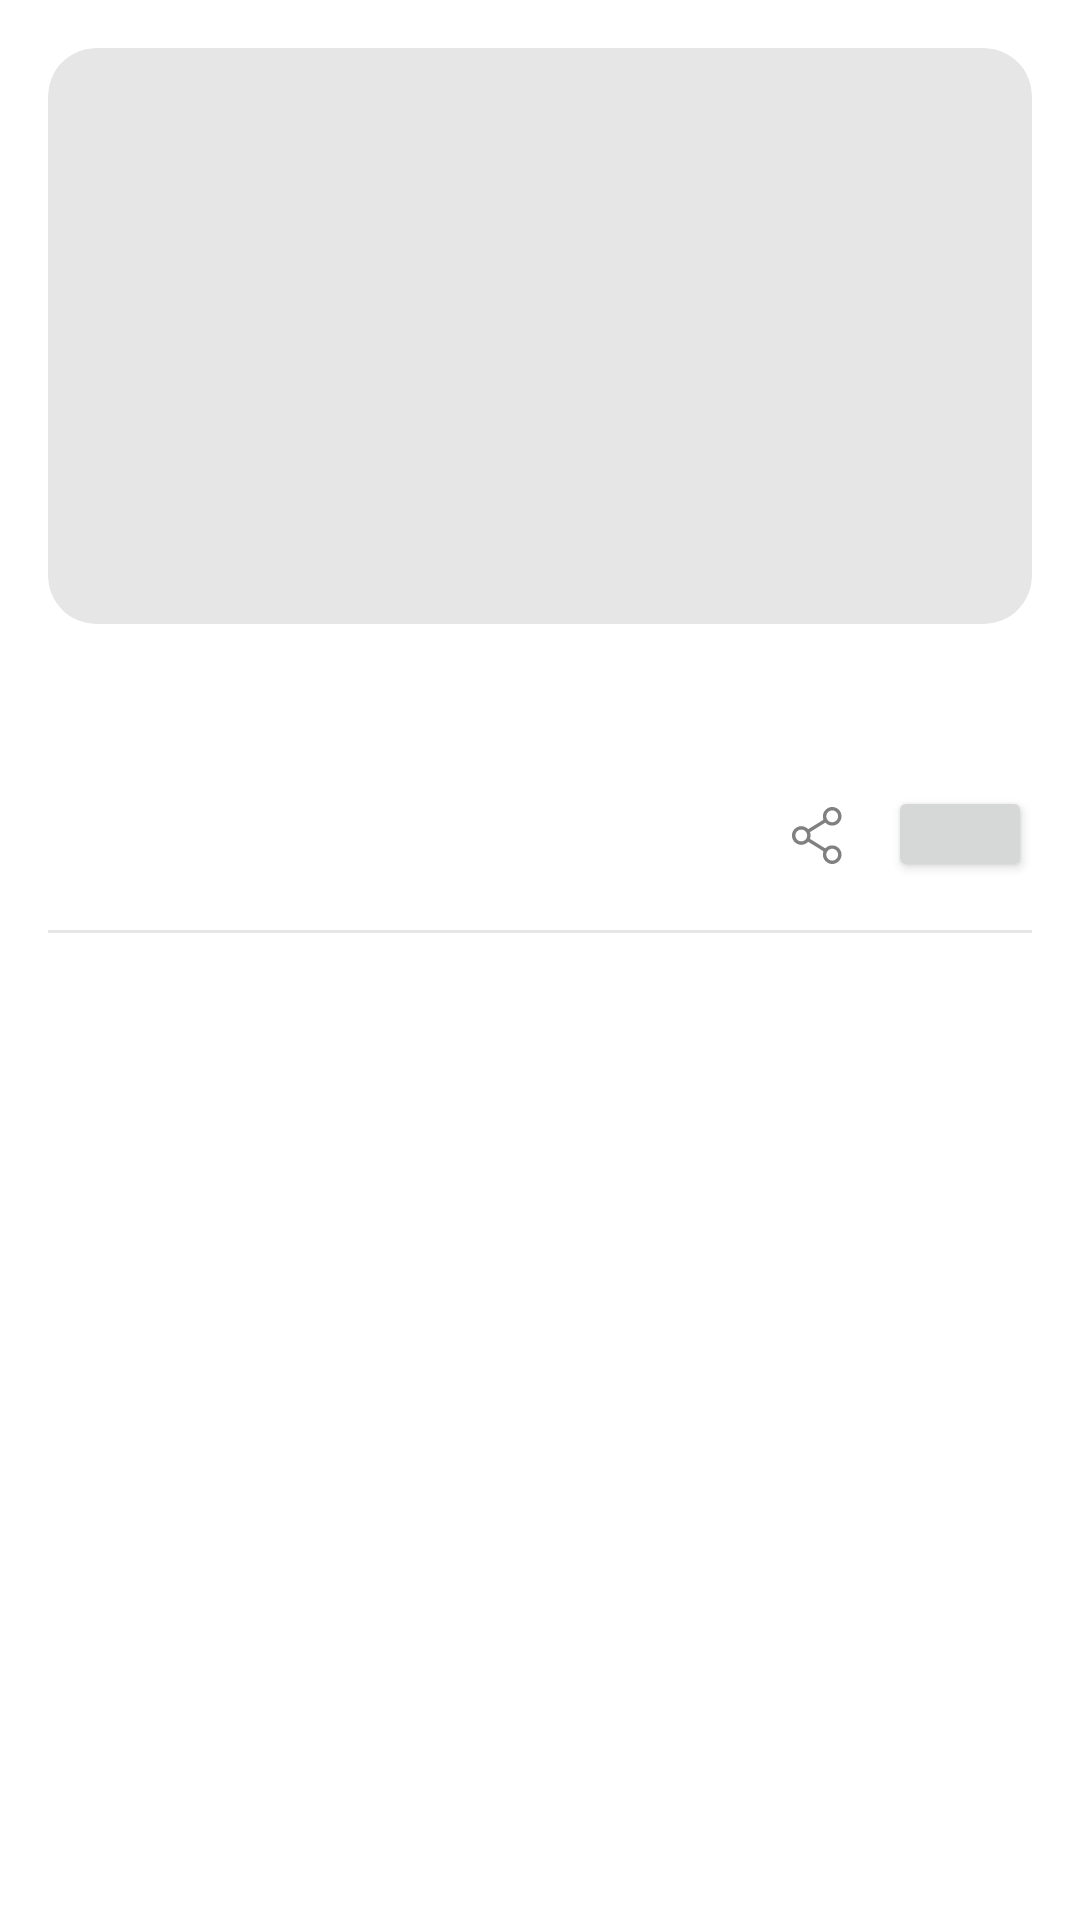

Icons on this 1080 × 1920 Android screen, each with the point to tap as (x=x, y=y):
Share news: (x=817, y=835)
